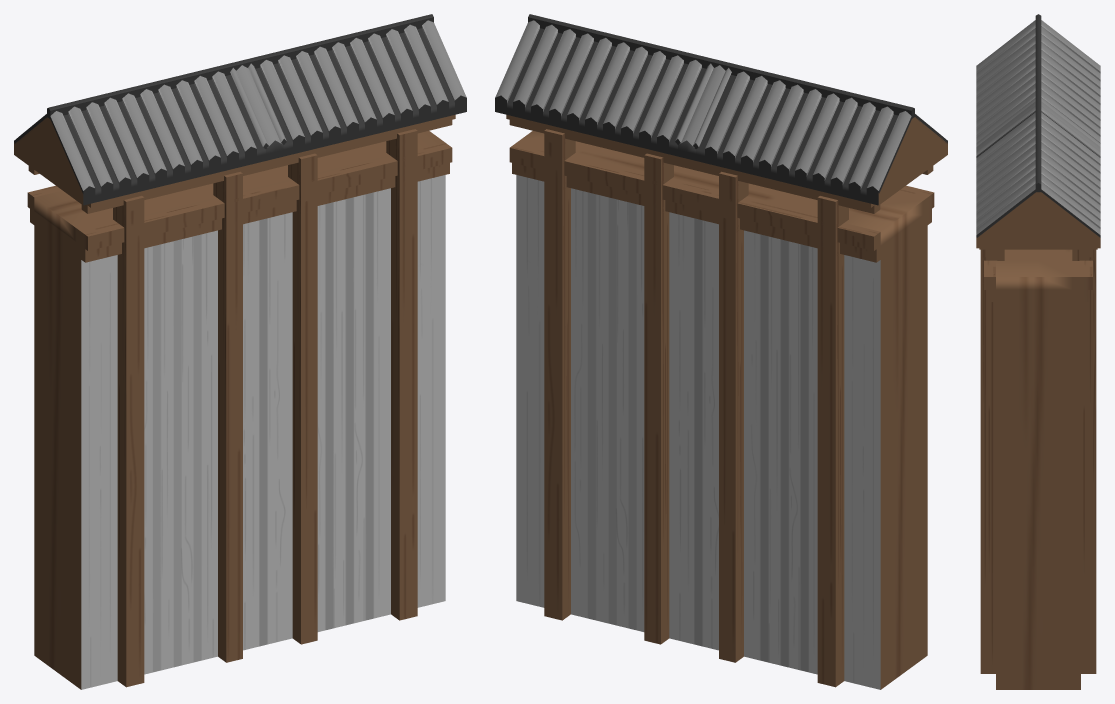
The model's file is gate_wall_long.fbx.
3 views of the same model, side by side, from view 1: azimuth 30°, elevation 25°; view 2: azimuth 150°, elevation 25°; view 3: azimuth 270°, elevation 25° (orthographic). The views are drawn at different scales.
Parts seen in each view (by area): view 1: pCube3; view 2: pCube3; view 3: pCube3.
Boxes of the visible parts, <box> form: pCube3: <box>14,14,466,689</box>; pCube3: <box>495,14,947,689</box>; pCube3: <box>976,14,1100,689</box>.
Size of the model in its own units: 907 by 1282 by 283.
